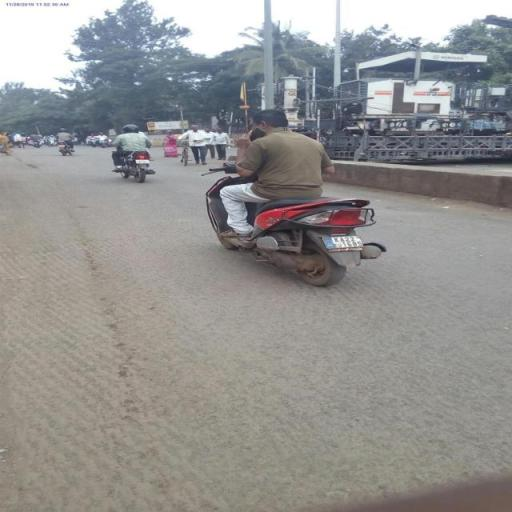bike: (194, 106, 390, 288)
numberplate: (322, 233, 364, 250)
using mobile: (244, 126, 262, 144)
withouthelmet: (252, 108, 288, 130)
